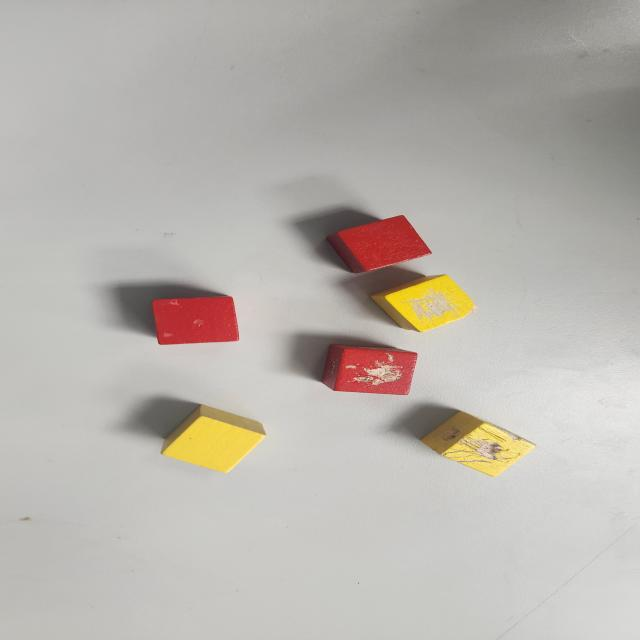broken: (418, 410, 538, 480), (371, 274, 480, 334), (321, 342, 417, 394), (152, 295, 239, 344)
red: (325, 215, 432, 274)
yellow: (160, 404, 269, 473)
